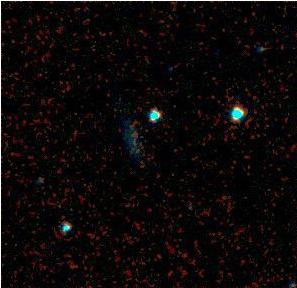star: (219, 79, 249, 109)
